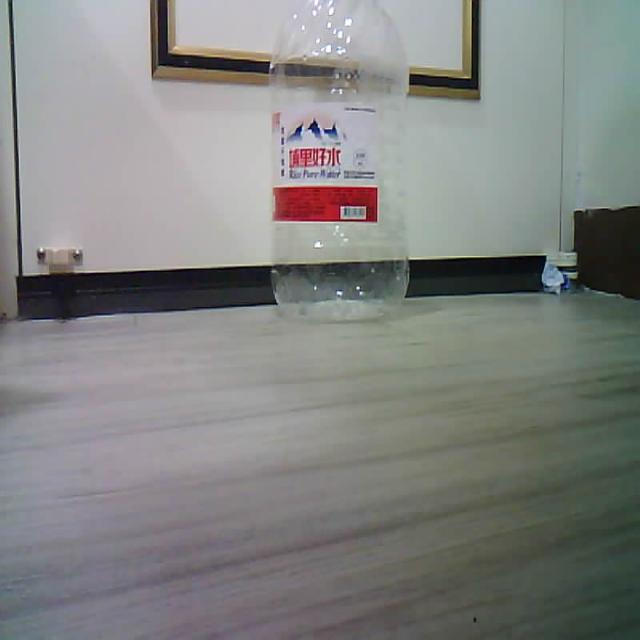bottle: (270, 0, 408, 319)
